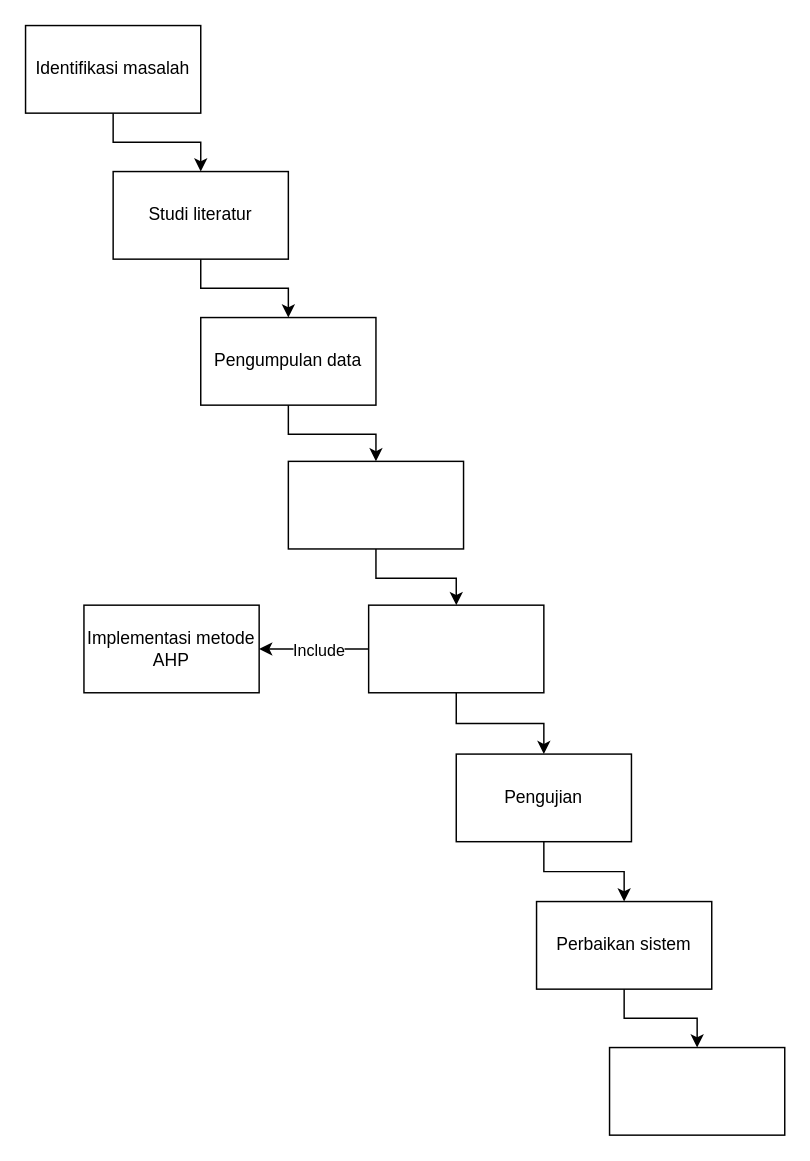
Some shapes in this 810 by 1161 pixel diagram are drawn without their labels. Each missing label, with the centre of its shape:
"Pembuatan kesimpulan dan saran" goes at [696,1090].
"Pembuatan program" goes at [455,648].
"Perancangan" goes at [375,504].
